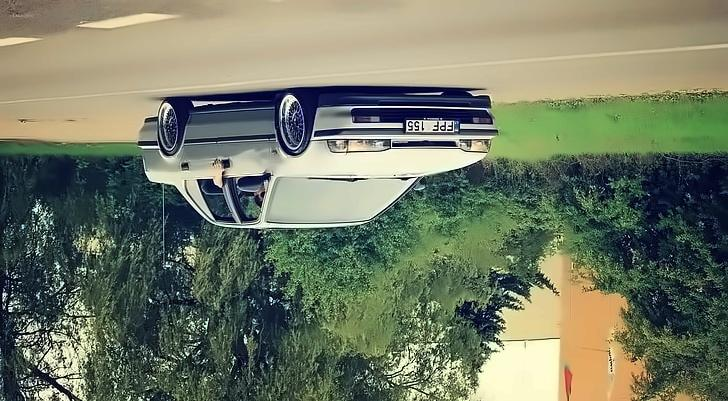Car hood: (299, 145, 488, 183)
Fender - -F-L-: (264, 130, 315, 179)
Fender - -R-L-: (138, 149, 193, 183)
Front bumper: (310, 85, 500, 149)
Headlight - -L-: (326, 138, 392, 153)
Headlight - -R-: (452, 138, 493, 154)
Passenger-s door - -F-L-: (219, 94, 283, 228)
Passenger-s door - -R-L-: (179, 94, 243, 230)
Rear bumper: (136, 111, 162, 155)
Side bumper - -L-: (185, 93, 281, 143)
Side mirror - -L-: (236, 169, 274, 192)
